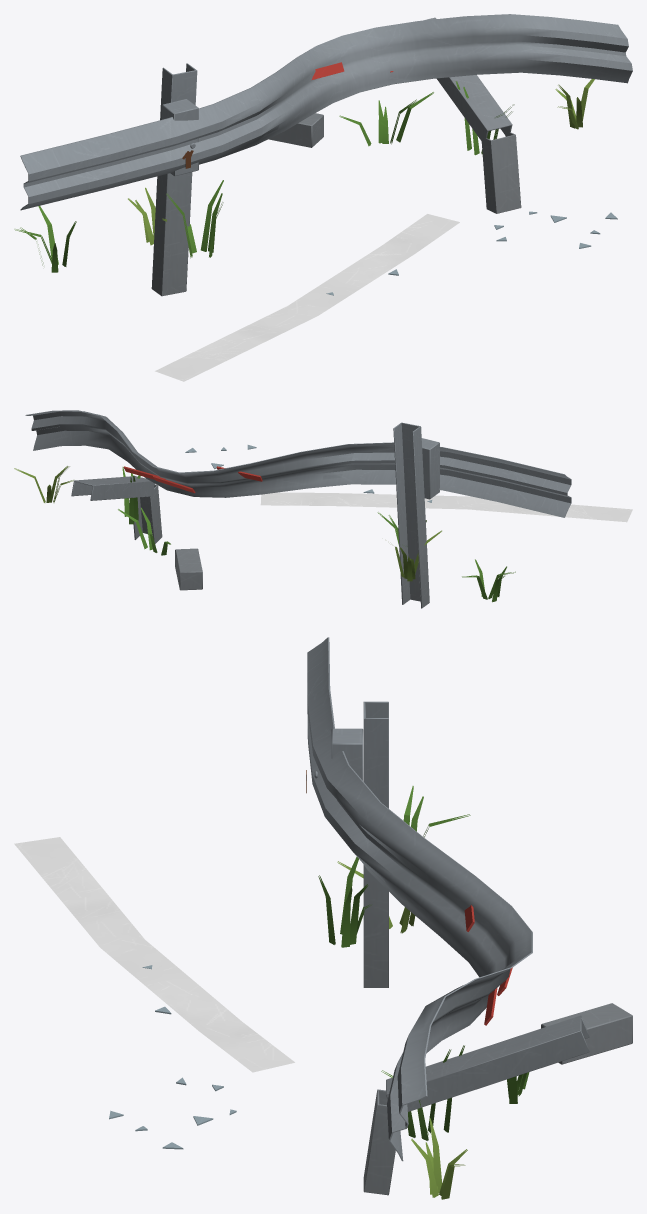
File: guard_rail_bent.glb
3 views of the same model, one above another, from view 1: azimuth 30°, elevation 25°; view 2: azimuth 150°, elevation 25°; view 3: azimuth 270°, elevation 25° (orthographic). The views are drawn at different scales.
Parts seen in each view (by area): view 1: guard_rail_bent; view 2: guard_rail_bent; view 3: guard_rail_bent.
Part boxes in pixels (left/top/right/bottom): guard_rail_bent: left=14, top=14, right=632, bottom=381; guard_rail_bent: left=14, top=410, right=632, bottom=608; guard_rail_bent: left=14, top=637, right=632, bottom=1199.
Bounding box in the file's own units: 3.8 × 1.26 × 2.53.
Materials: 11 (11 with a texture image).
